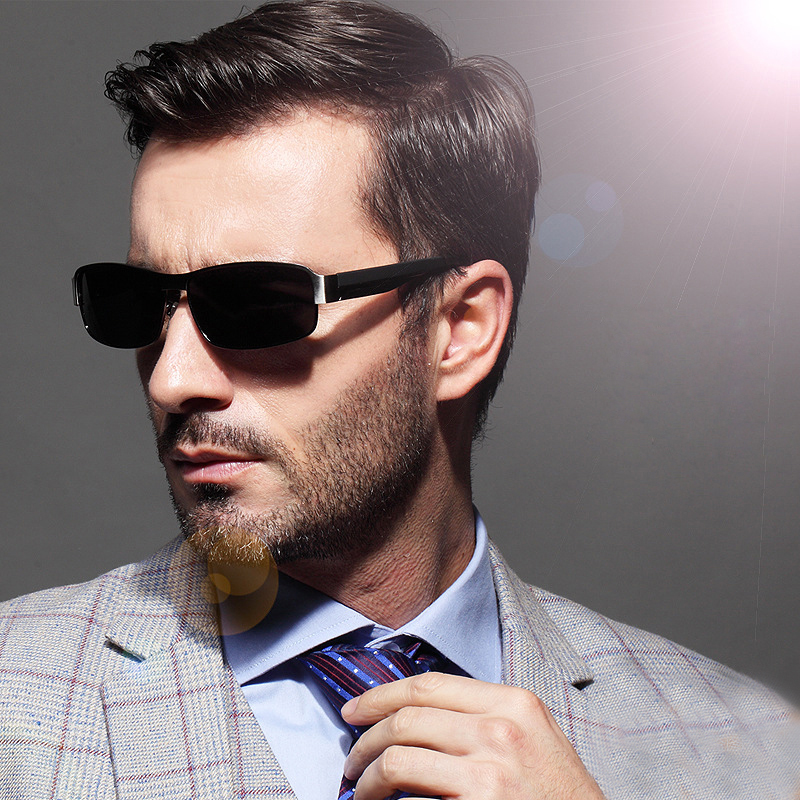sunglasses: (50, 255, 519, 343)
